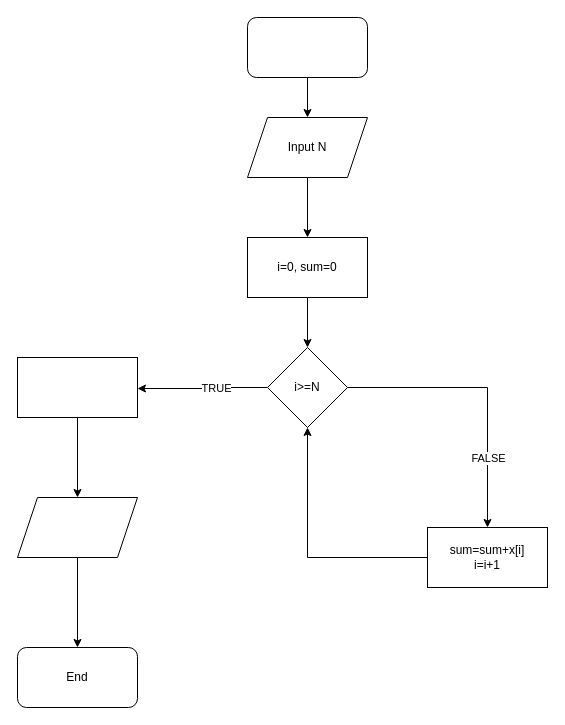
The diagram is 565 pixels wide and 725 high, and some of its shapes have lost their labels. Here are the shapes that lost their labels. From the top down, the centre of each, then its label:
At point (307, 47): "Start".
At point (77, 387): "tbc=sum/N".
At point (77, 527): "Put tbc to Output".
